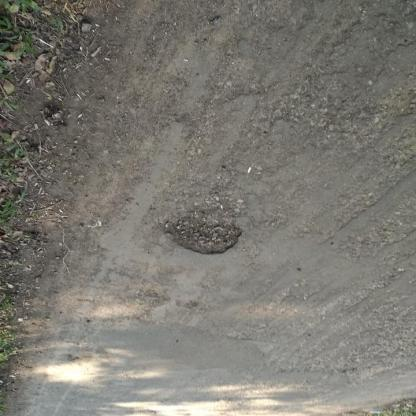pothole: (158, 213, 245, 259)
